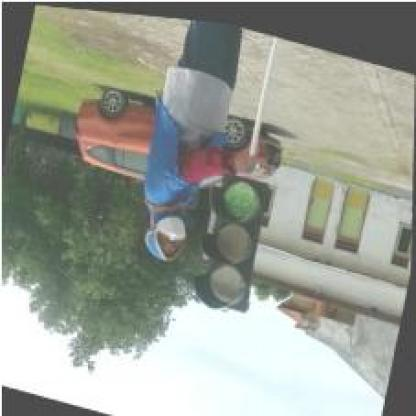green: (189, 161, 273, 312)
